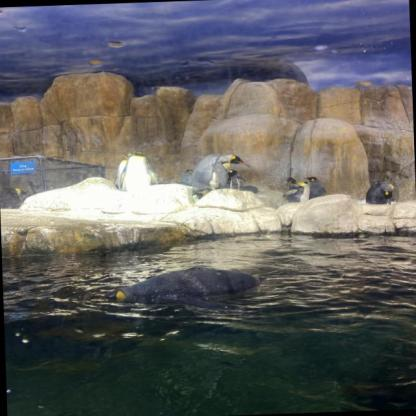penguin: (89, 266, 268, 314), (193, 147, 240, 197), (120, 150, 157, 188), (109, 146, 133, 189), (364, 178, 396, 206), (226, 165, 254, 196), (293, 177, 314, 204), (306, 173, 324, 201), (182, 166, 198, 191), (289, 175, 300, 201)
